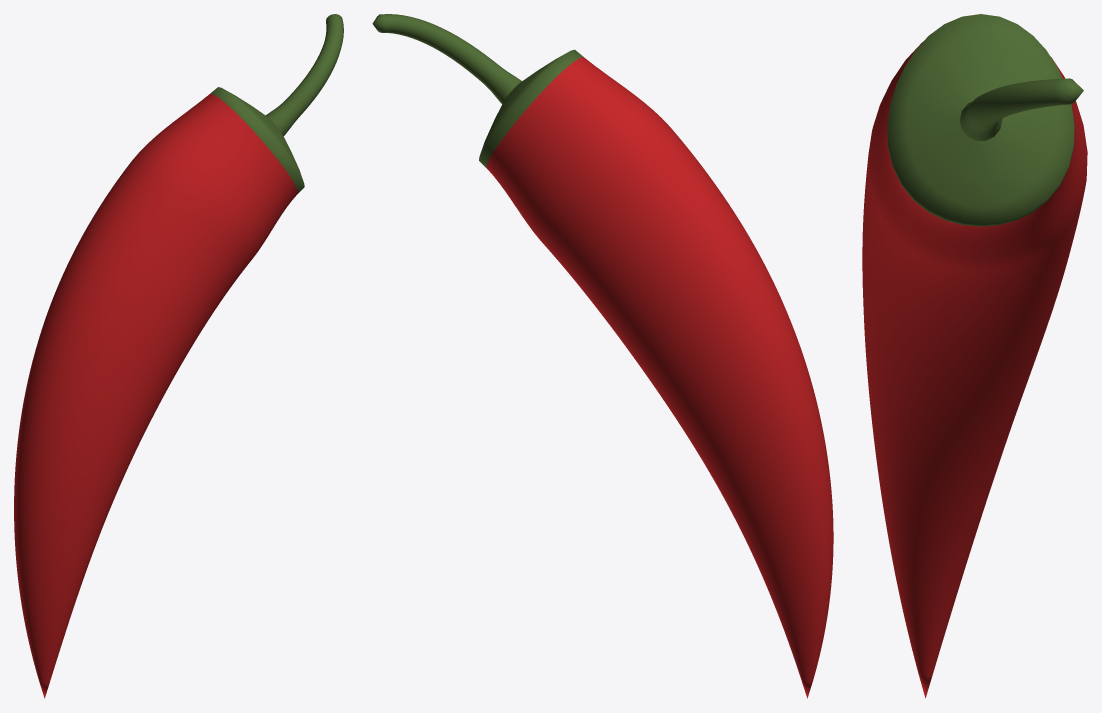
File: chili_pepper.glb
The picture shows the model from 3 angles, left to right: view 1: azimuth 30°, elevation 25°; view 2: azimuth 150°, elevation 25°; view 3: azimuth 270°, elevation 25°; orthographic projection. The views are drawn at different scales.
Parts seen in each view (by area): view 1: ChiliBody, ChiliStem; view 2: ChiliBody, ChiliStem; view 3: ChiliBody, ChiliStem.
Part boxes in pixels (x1,y1,x2,y2): ChiliBody: (14,87,304,698); ChiliStem: (266,14,343,135); ChiliBody: (479,49,833,698); ChiliStem: (372,14,521,103); ChiliBody: (862,14,1087,698); ChiliStem: (959,78,1083,140).
Size of the model in its own units: 0.1069 by 0.1584 by 0.0371.
